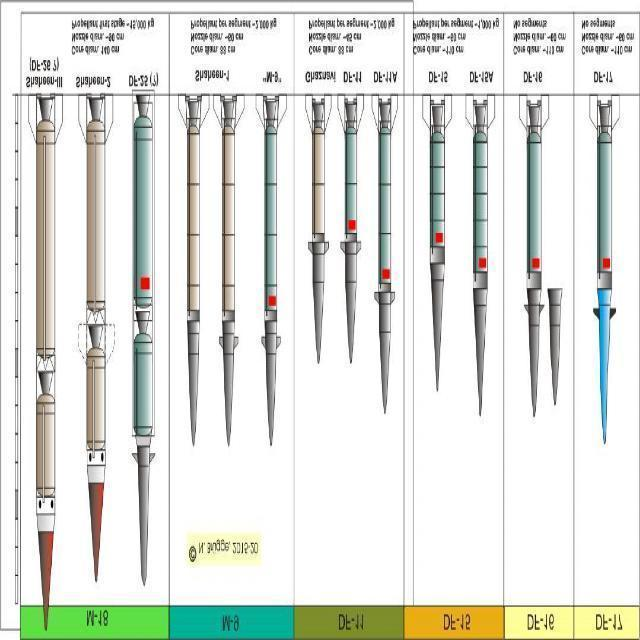Missile: (27, 93, 66, 636), (126, 91, 160, 601), (254, 97, 291, 459), (461, 95, 499, 443), (588, 82, 622, 444), (367, 89, 404, 418), (516, 84, 551, 426), (419, 95, 455, 410), (337, 91, 365, 366)
